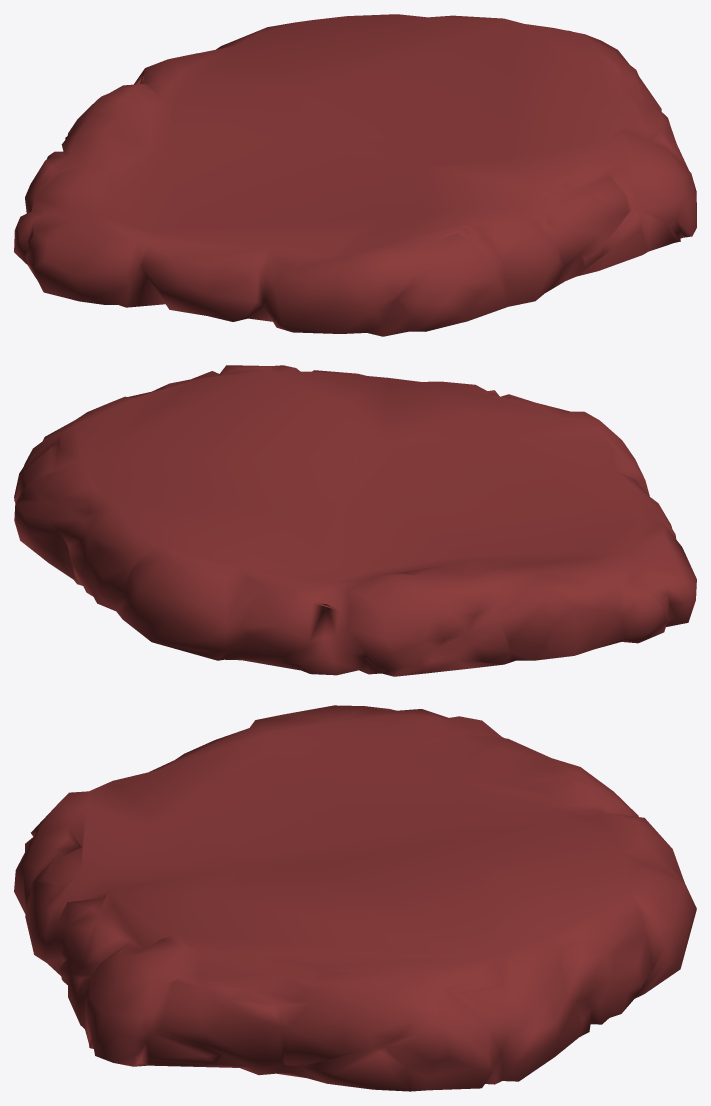
File: SM_island_01.fbx
3 renders of one model, top to bottom at view 1: azimuth 30°, elevation 25°; view 2: azimuth 150°, elevation 25°; view 3: azimuth 270°, elevation 25°, orthographic. The views are drawn at different scales.
Parts seen in each view (by area): view 1: island_01; view 2: island_01; view 3: island_01.
Part boxes in pixels (box(x1,y1,x2,y2)): island_01: box(14, 14, 696, 336); island_01: box(14, 365, 696, 676); island_01: box(14, 705, 696, 1091).
Bounding box in the file's own units: 2507 × 337 × 2098.
